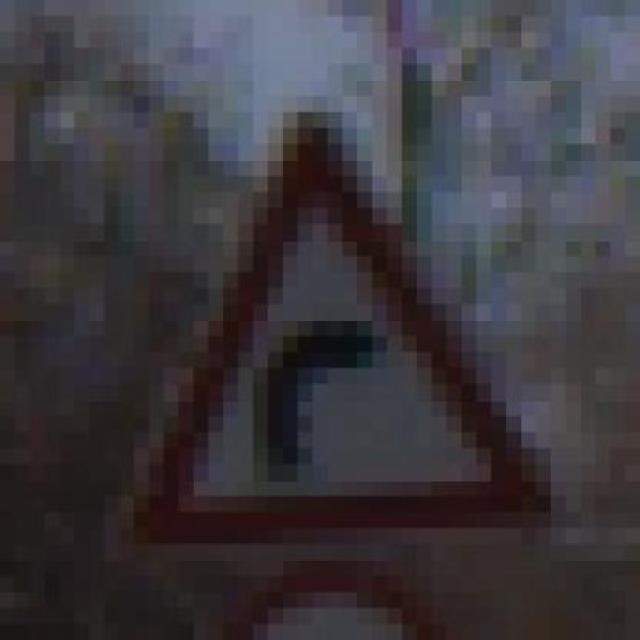Dangerous Rright Curve Ahead: (87, 115, 564, 548)
